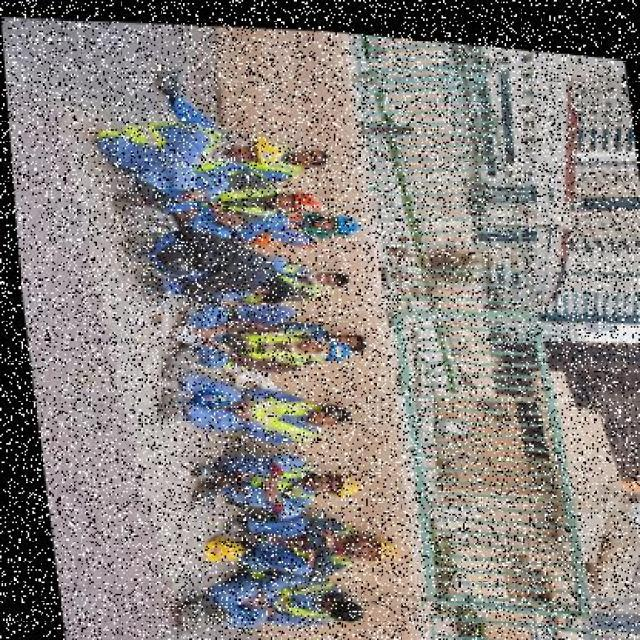helmet: (248, 128, 287, 163), (288, 186, 318, 212), (331, 206, 359, 230)
vest: (232, 568, 332, 623), (218, 314, 302, 368), (223, 388, 310, 439), (232, 451, 307, 499), (208, 174, 286, 214)
